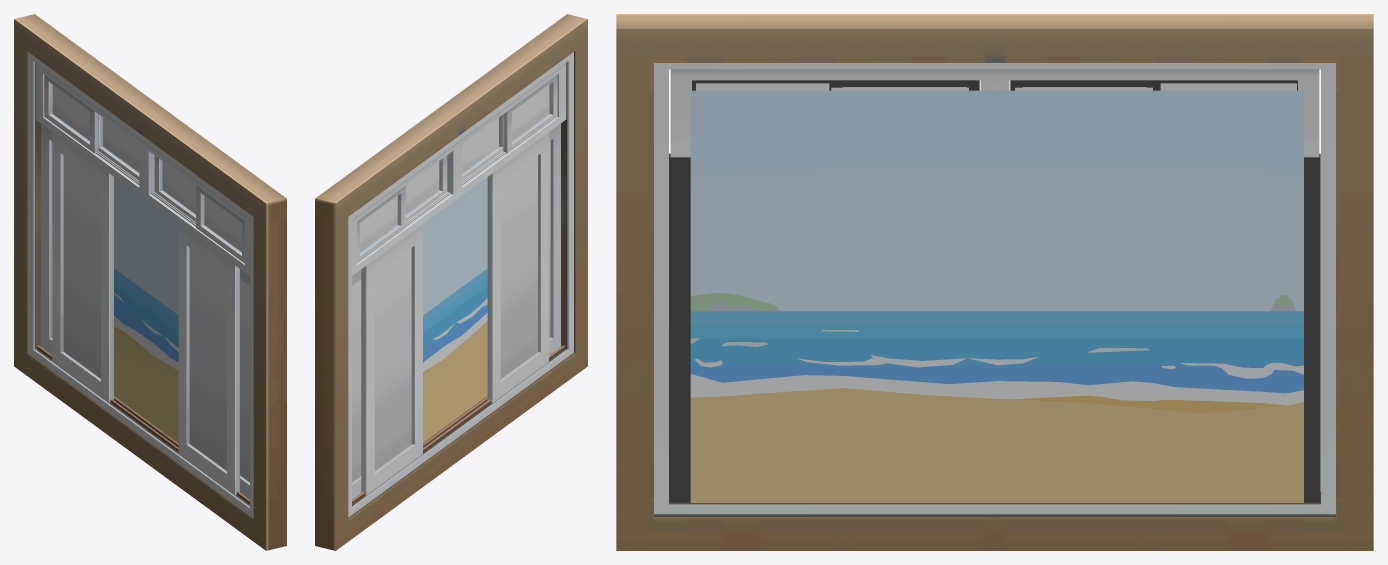
Rendered from my_seahouse_01_window.glb.
3 views of the same model, side by side, from view 1: azimuth 30°, elevation 25°; view 2: azimuth 150°, elevation 25°; view 3: azimuth 270°, elevation 25° (orthographic). The views are drawn at different scales.
Parts seen in each view (by area): view 1: my_seahouse_01_window; view 2: my_seahouse_01_window; view 3: my_seahouse_01_window.
Boxes of the visible parts, x1=… form: my_seahouse_01_window: x1=14, y1=14, x2=286, y2=550; my_seahouse_01_window: x1=315, y1=14, x2=587, y2=550; my_seahouse_01_window: x1=616, y1=14, x2=1373, y2=550.
Size of the model in its own units: 0.00109 by 0.0176 by 0.0231.
Materials: 2 (2 with a texture image).
